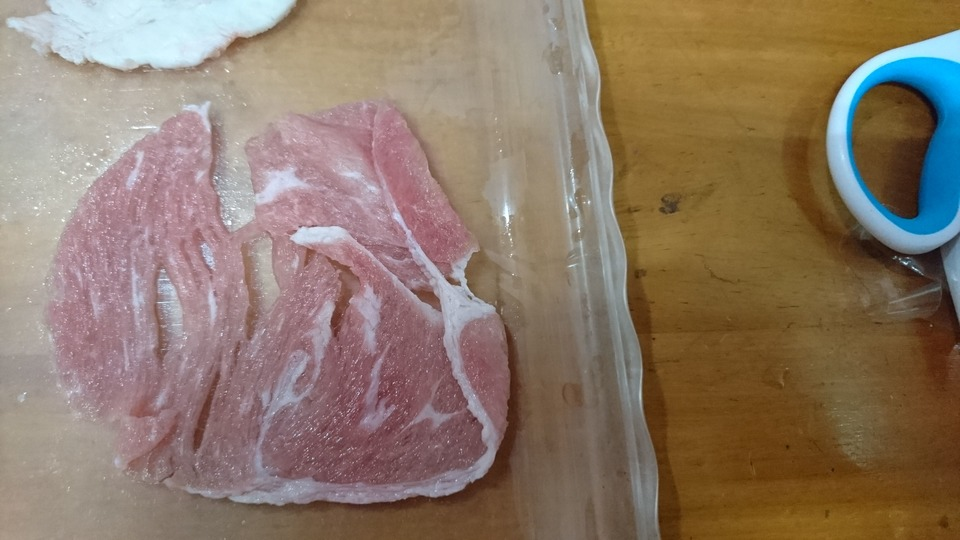restructured meat: (15, 122, 556, 506), (22, 1, 313, 75)
